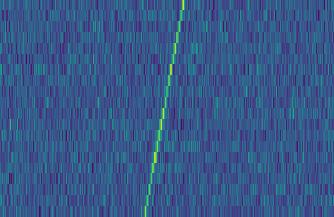signal: (140, 0, 189, 217)
